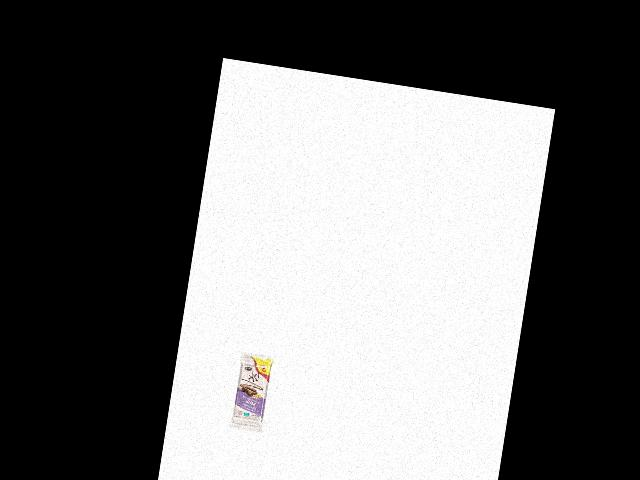chocolate: (226, 349, 276, 433)
